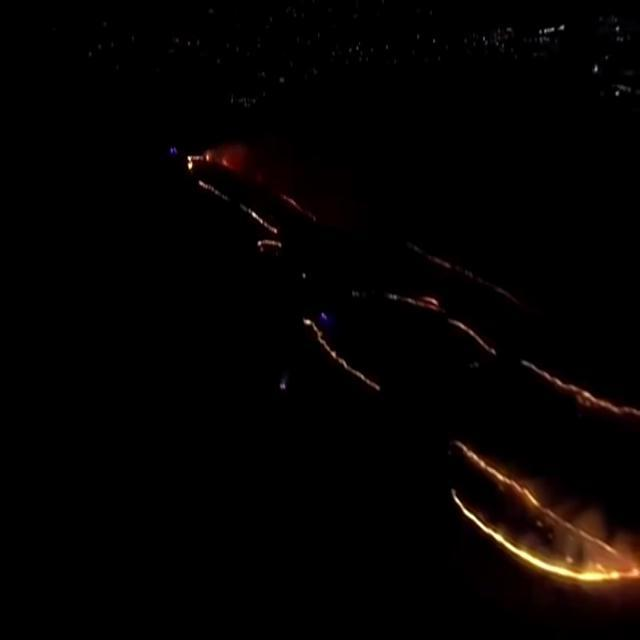Fire: (457, 438, 619, 560), (522, 355, 640, 416), (304, 320, 380, 390), (548, 550, 638, 597), (449, 482, 499, 551), (186, 150, 204, 172), (224, 154, 230, 171)
